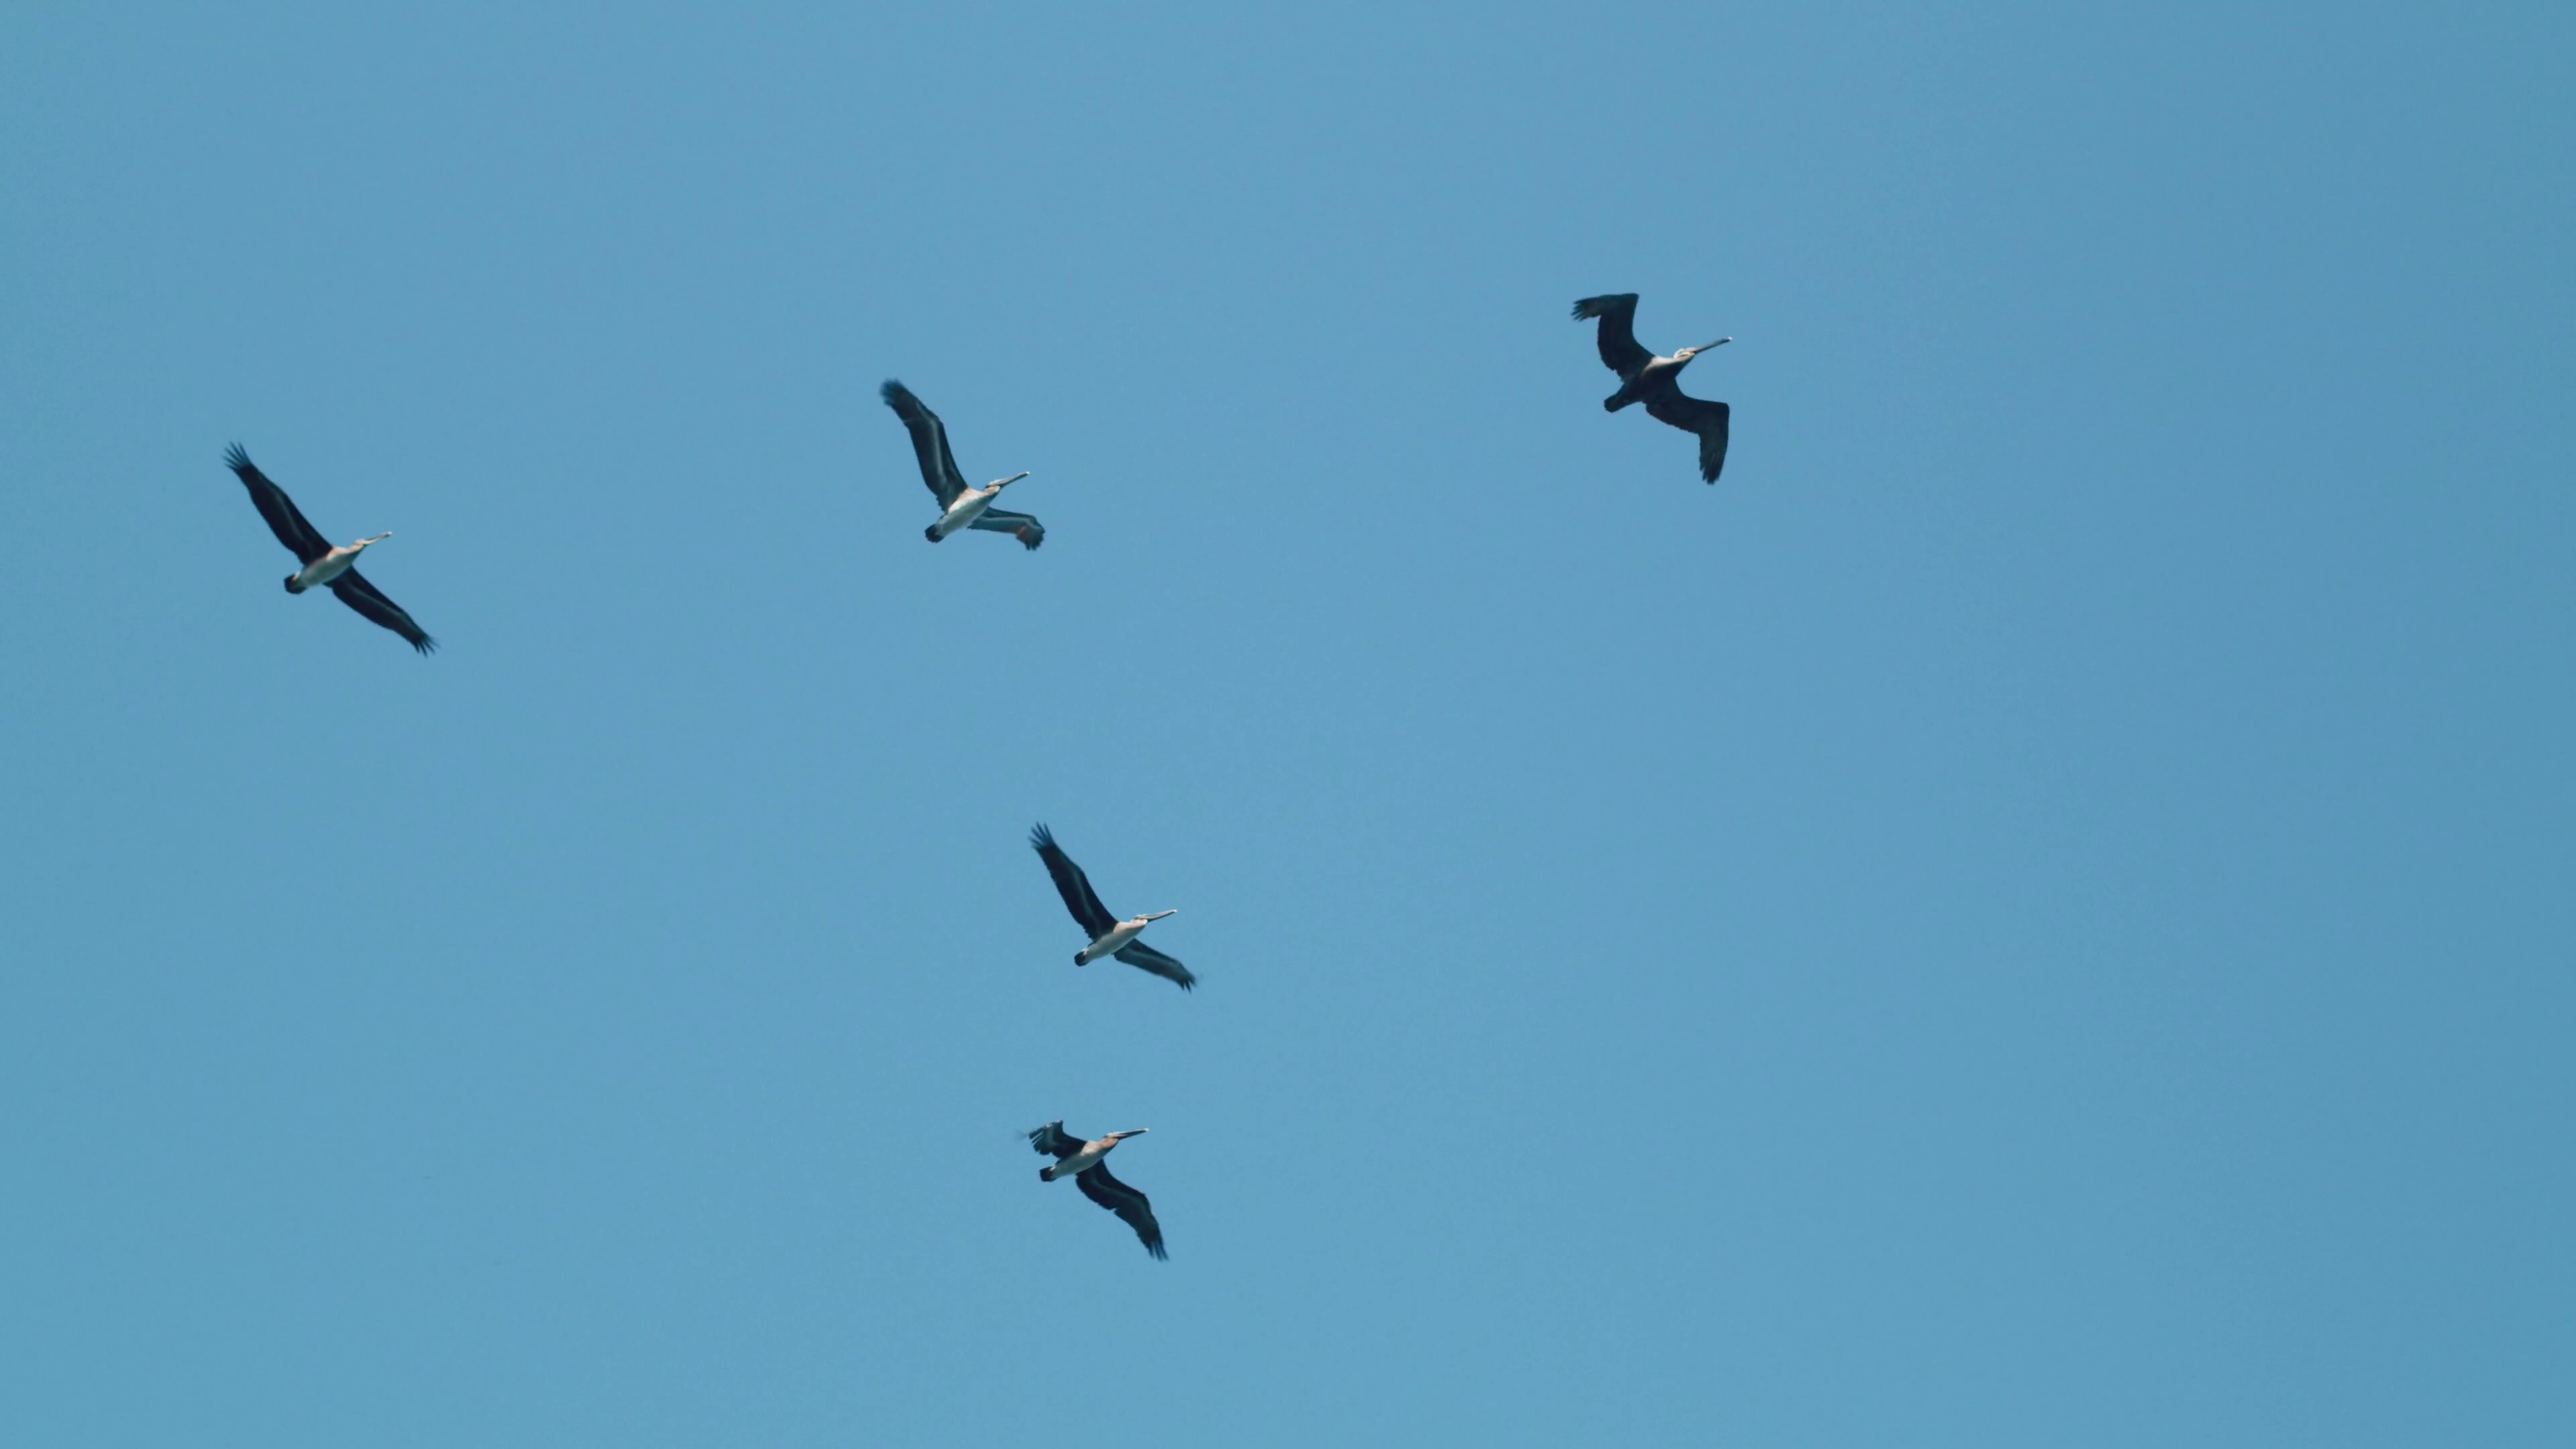bird: (225, 437, 433, 658), (1571, 288, 1737, 483), (883, 375, 1047, 561), (1028, 824, 1201, 993), (1017, 1116, 1168, 1261)
